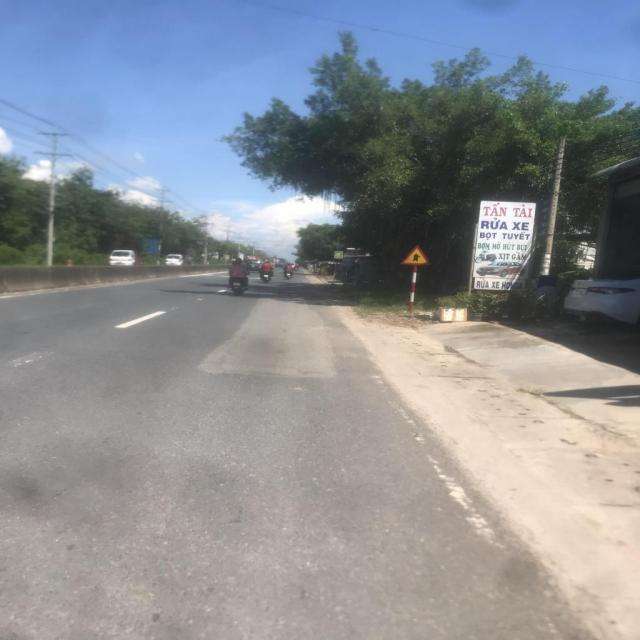207-giao-nhau-voi-duong-khong-uu-tien: (402, 244, 431, 265)
